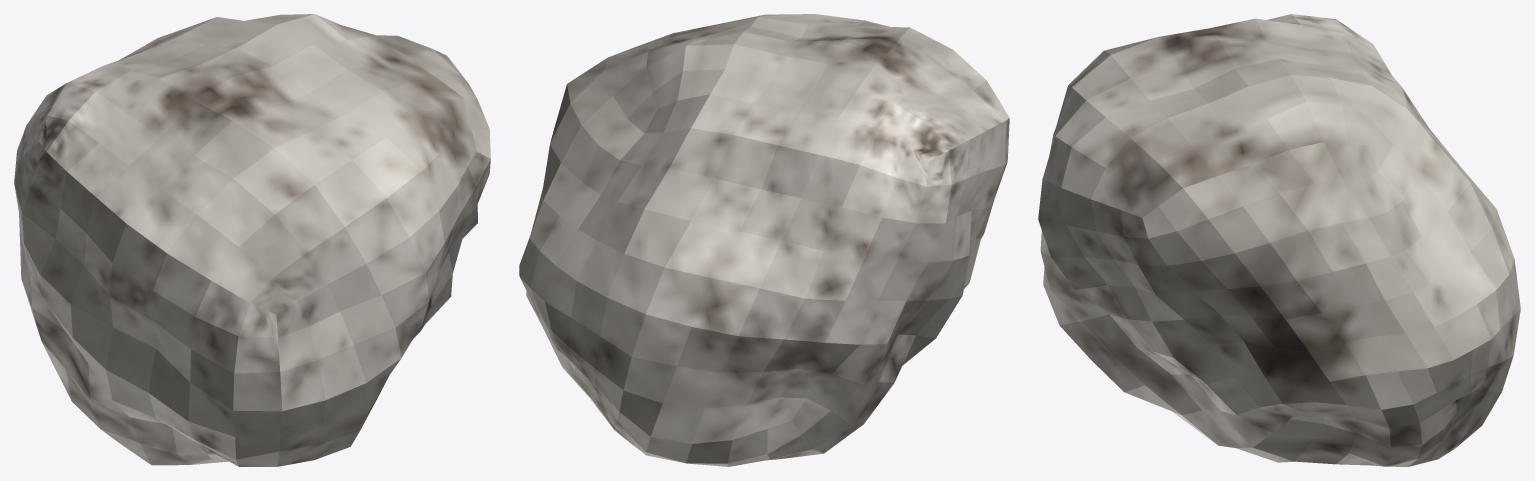
The model's file is Rock_bigball.fbx.
3 renders of one model, left to right at view 1: azimuth 30°, elevation 25°; view 2: azimuth 150°, elevation 25°; view 3: azimuth 270°, elevation 25°, orthographic. The views are drawn at different scales.
Parts seen in each view (by area): view 1: Rock_bigball; view 2: Rock_bigball; view 3: Rock_bigball.
Boxes of the visible parts, x1,y1,x2,y2 form: Rock_bigball: (14, 14, 490, 466); Rock_bigball: (519, 14, 1009, 466); Rock_bigball: (1038, 14, 1520, 466).
Size of what is drawn, in the model's own units: 629 by 589 by 648.
